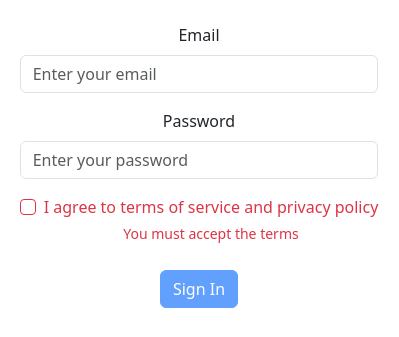
Login Form Success › should display error message for invalid email and keep the button disabled
Type "invalid-email" into the field named "email" at point(200, 74), box [20, 55, 379, 93]
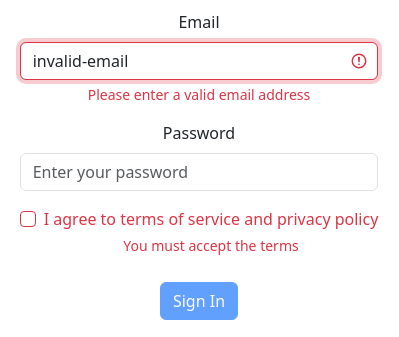
Type "9fxIH0GXesEwH_I" into the password field named "password" at point(200, 172), box [20, 153, 379, 191]
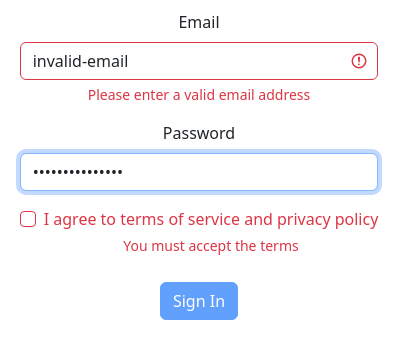
Check the checkbox named "terms" at point(28, 219), box [20, 211, 36, 227]
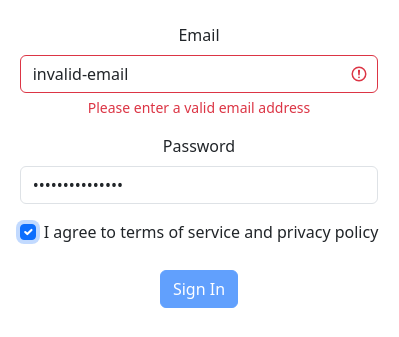
Check: the button "Sign In" is disabled, box [160, 270, 238, 308]
Check: the text "Please enter a valid email address" is shown, box [88, 98, 310, 116]
Check: the number of elements with class "invalid-feedback" is 1, box [88, 98, 311, 117]
